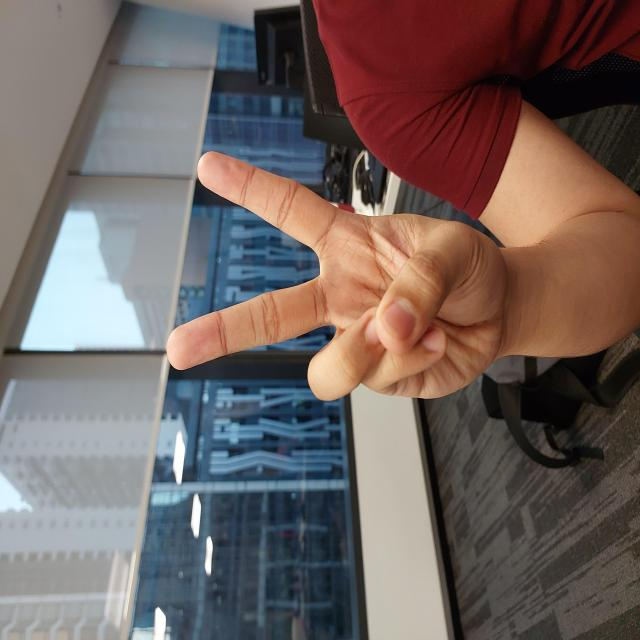V: (237, 163, 491, 505)
